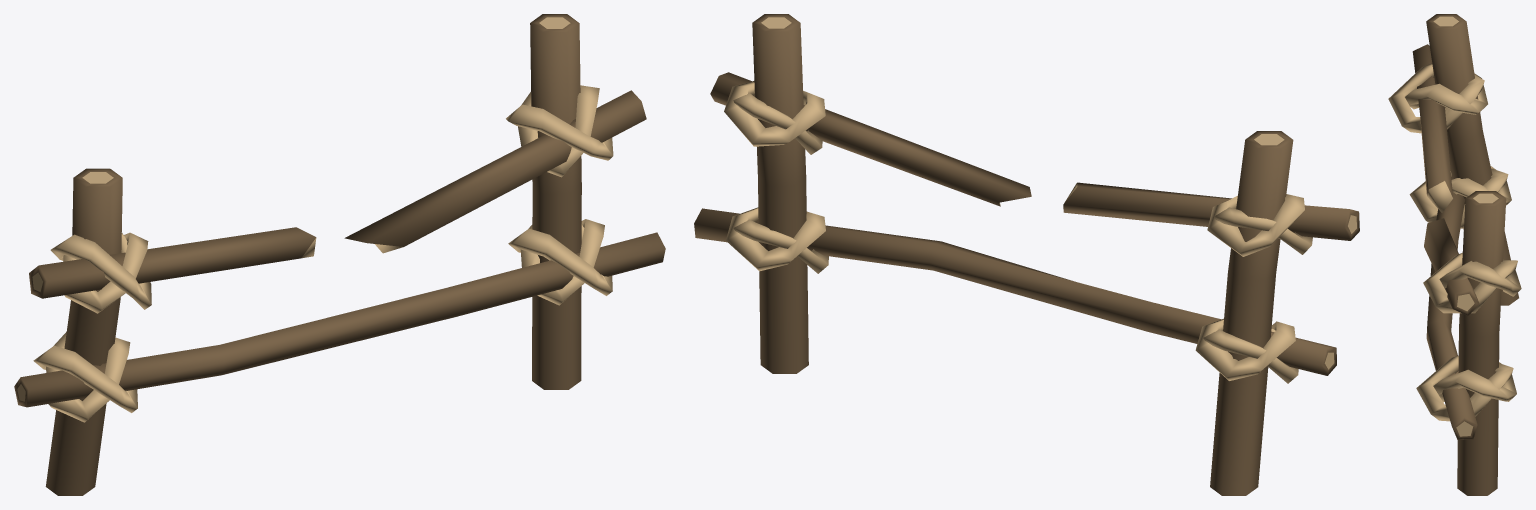
The model's file is rpgpp_ag_fence_01b_2m.fbx.
The picture shows the model from 3 angles, left to right: view 1: azimuth 30°, elevation 25°; view 2: azimuth 150°, elevation 25°; view 3: azimuth 270°, elevation 25°; orthographic projection. The views are drawn at different scales.
Parts seen in each view (by area): view 1: rpgpp_ag_fence_01b_2m; view 2: rpgpp_ag_fence_01b_2m; view 3: rpgpp_ag_fence_01b_2m.
Boxes of the visible parts, x1,y1,x2,y2 form: rpgpp_ag_fence_01b_2m: (14, 14, 665, 495); rpgpp_ag_fence_01b_2m: (694, 14, 1359, 495); rpgpp_ag_fence_01b_2m: (1388, 14, 1521, 495).
Bounding box in the file's own units: 2.84 × 1.48 × 0.6142.
